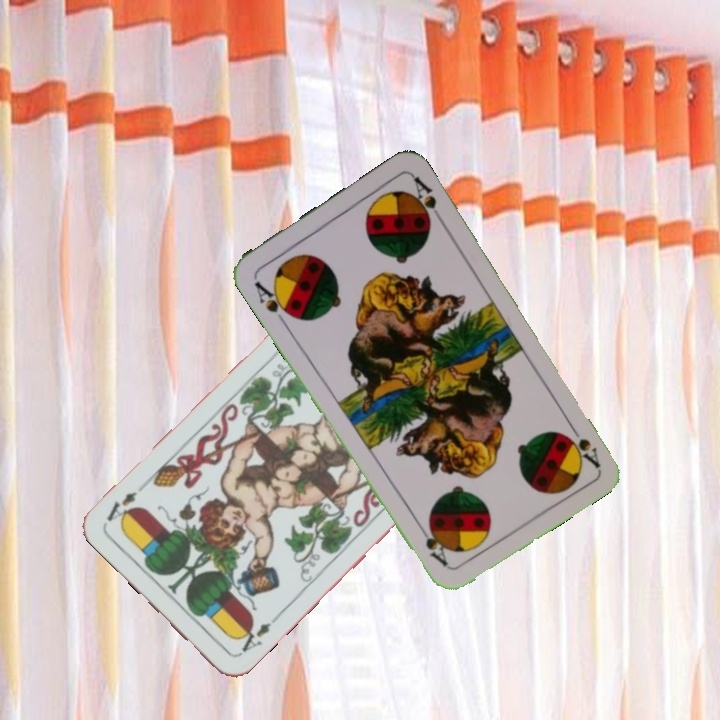EA: (231, 618, 274, 659)
SA: (250, 277, 297, 328), (563, 417, 602, 470)
